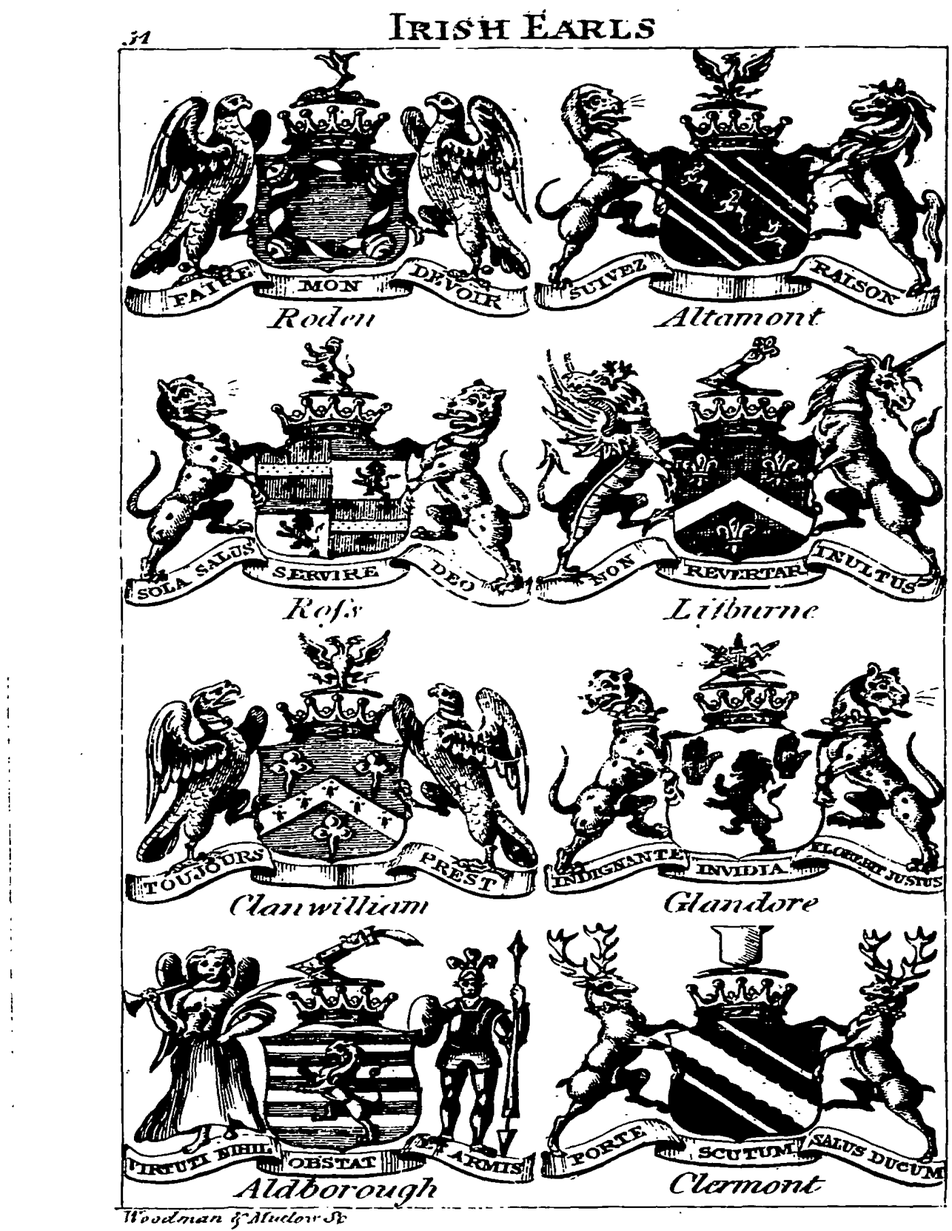coat_of_arms: (534, 332, 944, 634), (116, 631, 545, 918), (121, 343, 531, 635), (122, 915, 536, 1202), (122, 57, 533, 346), (539, 629, 945, 920), (534, 918, 945, 1201), (533, 56, 944, 337)
